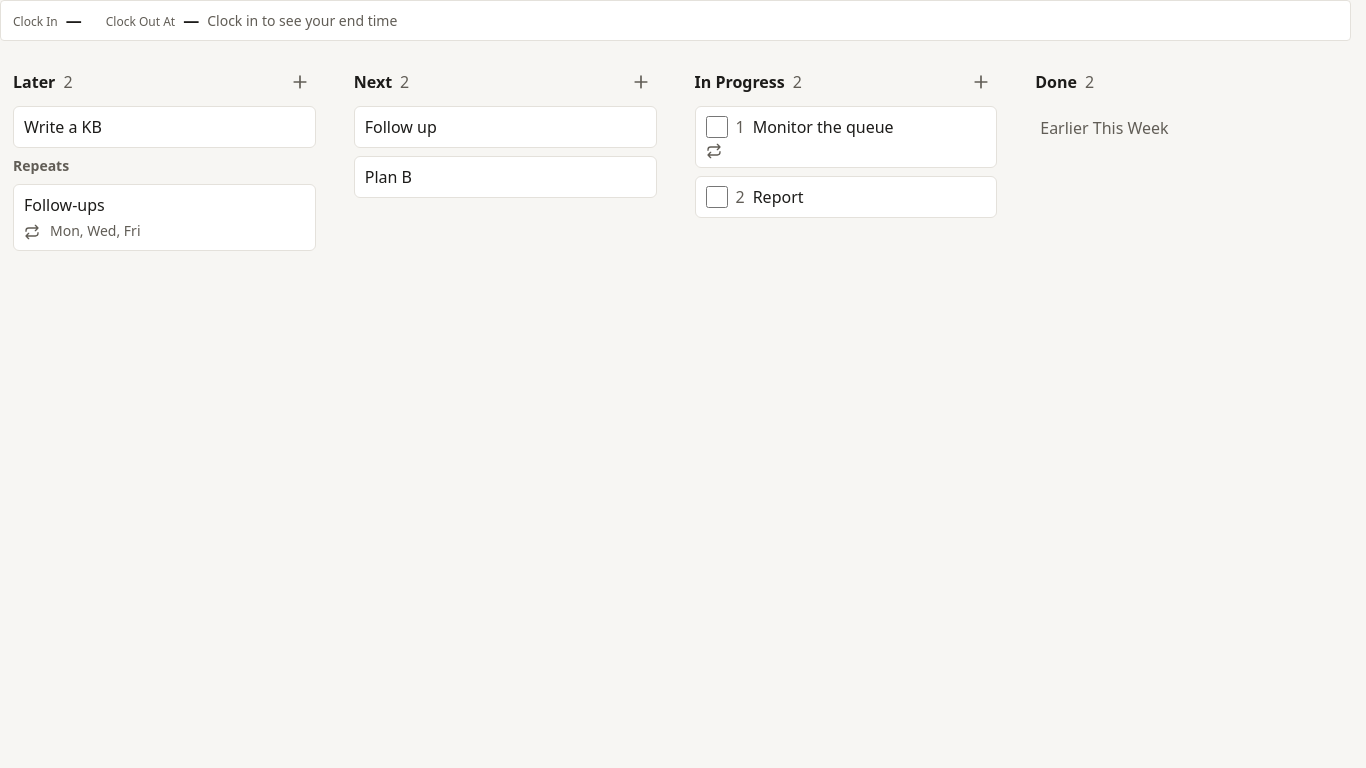
Test: repeating › stops repeating from today's row, which stays on today's list with the focus on it and no Repeat row
Click the button "Monitor the queue". click: {"x": 870, "y": 127}
box: [753, 115, 986, 139]
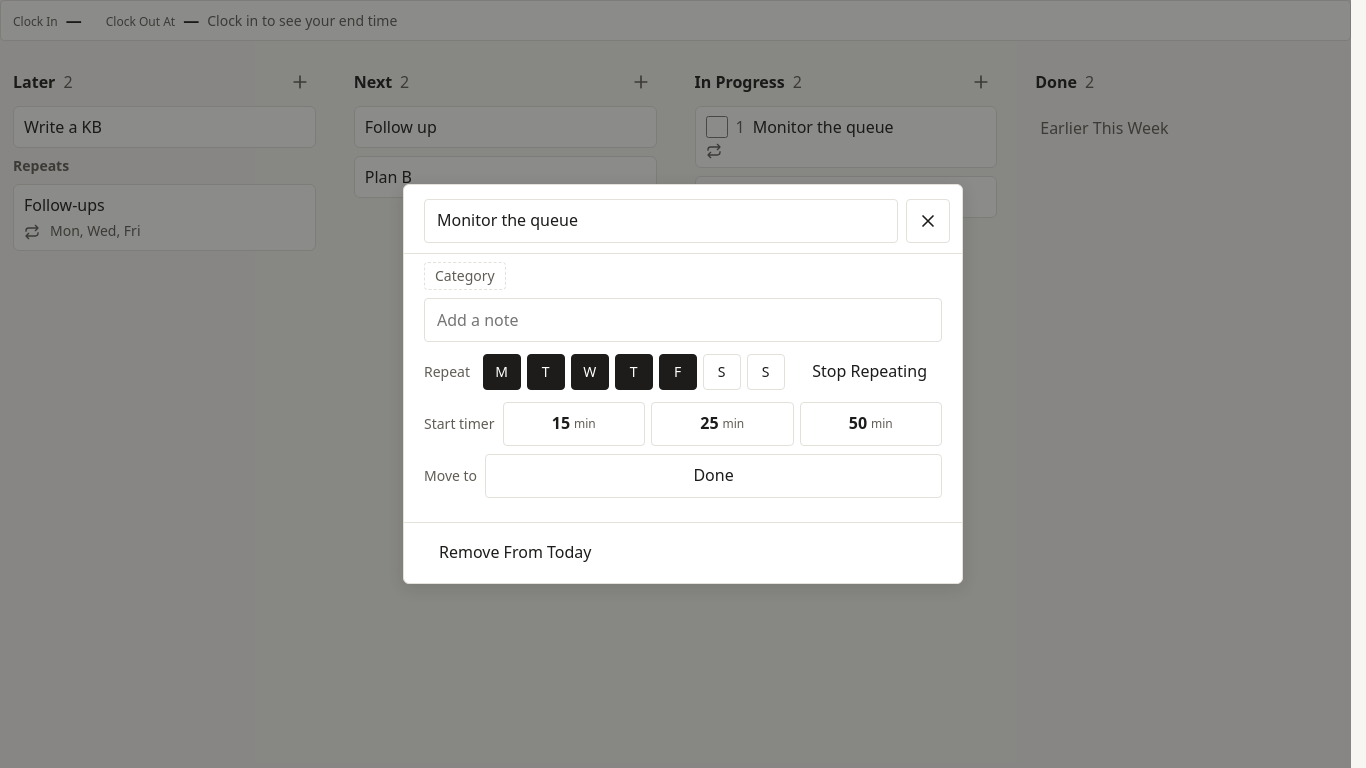
Click the button "Stop Repeating". click: {"x": 870, "y": 372}
box: [797, 350, 942, 394]
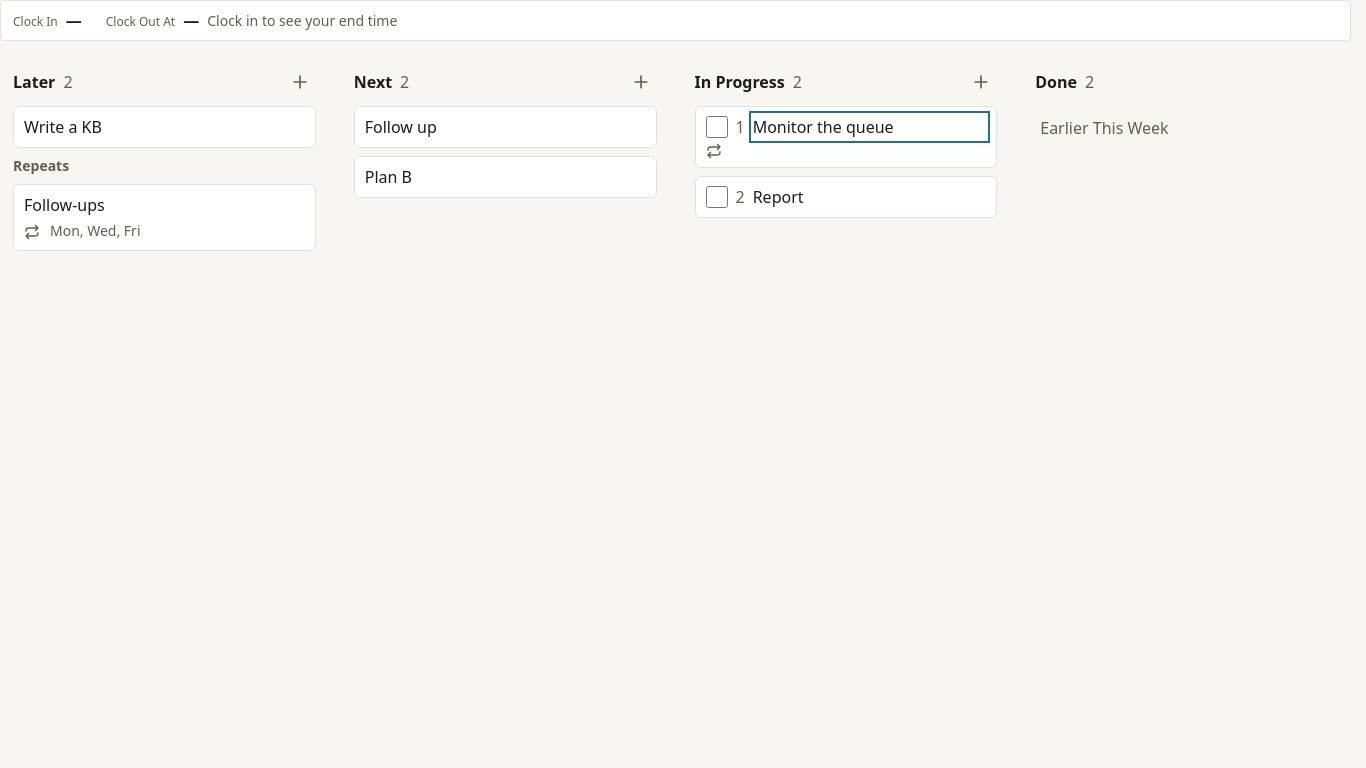
Now the dialog is gone
Click the button "Monitor the queue". click: {"x": 870, "y": 127}
box: [753, 115, 986, 139]
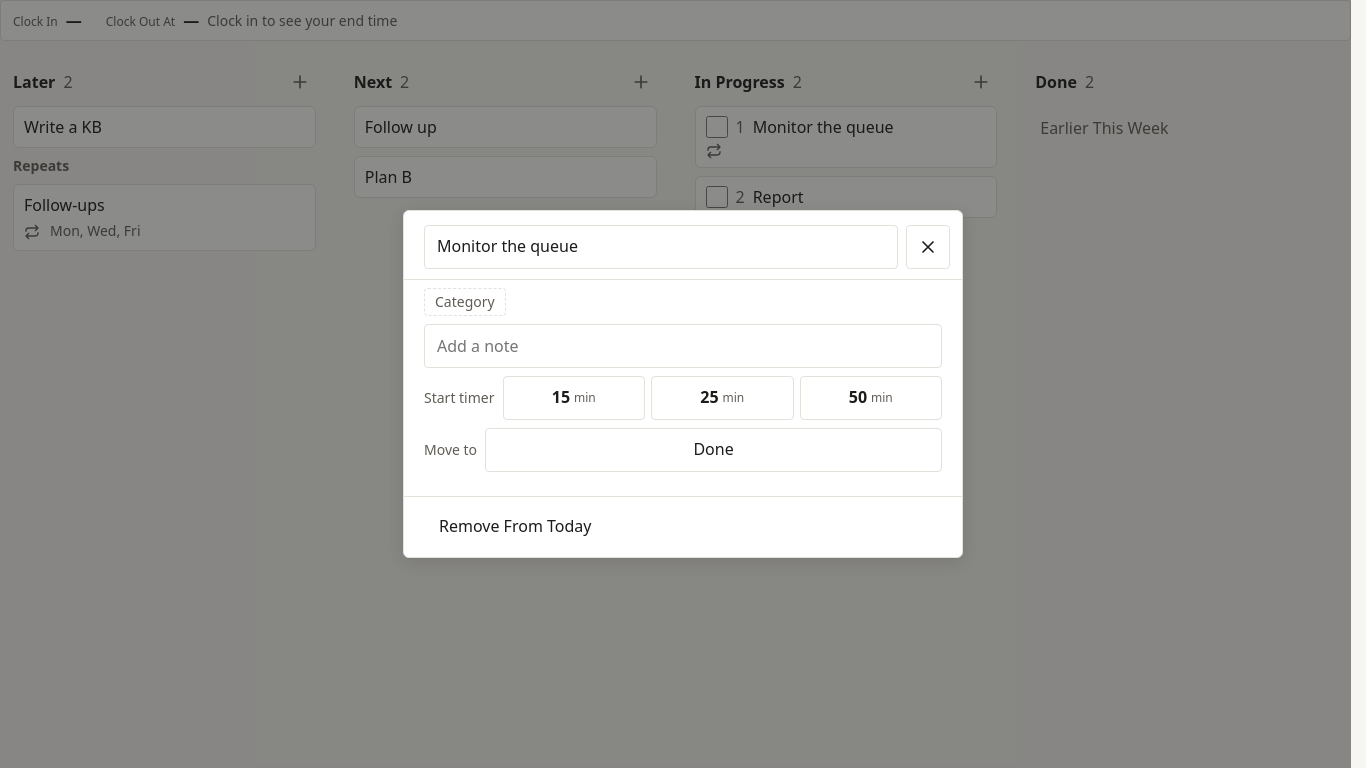
Now the button "Remove From Today" is shown, box [424, 505, 606, 549]
